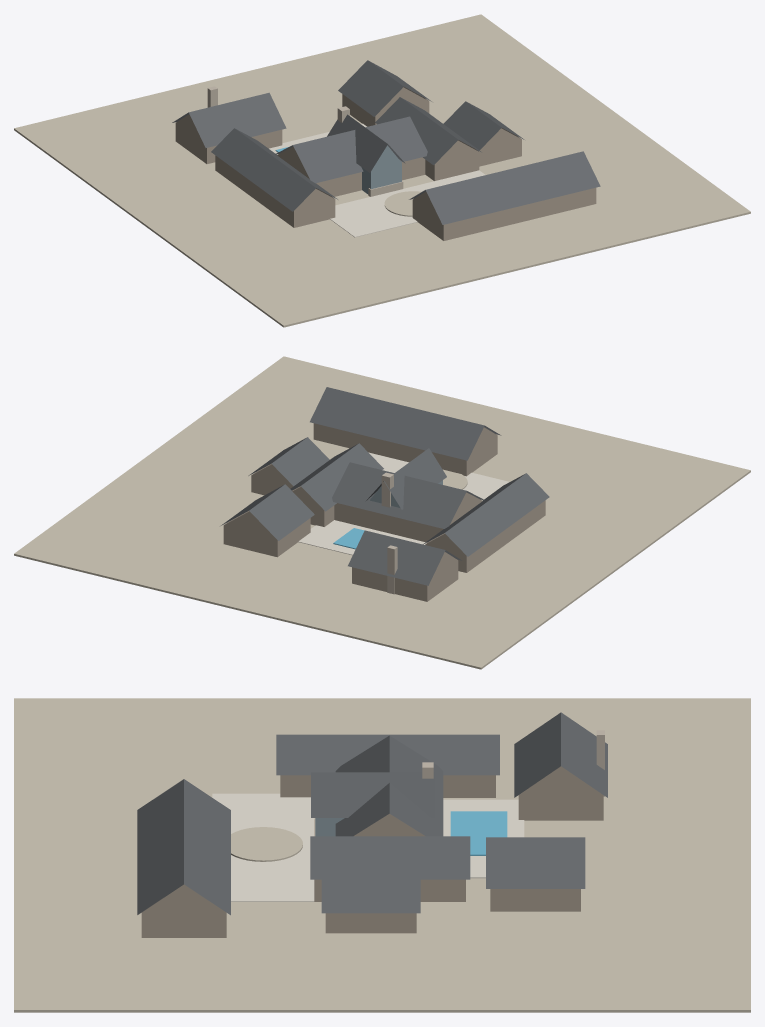
The model's file is PorterEstate_Massing.glb.
The picture shows the model from 3 angles, top to bottom: view 1: azimuth 30°, elevation 25°; view 2: azimuth 150°, elevation 25°; view 3: azimuth 270°, elevation 25°; orthographic projection. The views are drawn at different scales.
Visible parts, largest first — view 1: Ground, GarageWorkshop_roof, CentralBar_roof, WestWing_roof, GarageWorkshop_walls, Cabana_roof, MotorCourt, WestWing_walls, GymOffice_roof, MasterWing_roof, Garage2Car_roof, CentralBar_walls (+7 smaller); view 2: Ground, GarageWorkshop_roof, CentralBar_roof, WestWing_roof, Cabana_roof, GarageWorkshop_walls, CentralBar_walls, GymOffice_roof, GymOffice_walls, MasterWing_roof, Cabana_walls, WestWing_walls (+6 smaller); view 3: Ground, GarageWorkshop_roof, MotorCourt, WestWing_roof, MasterWing_roof, CentralBar_roof, GymOffice_roof, Cabana_roof, Garage2Car_roof, EntryGable_roof, Cabana_walls, GarageWorkshop_walls (+8 smaller).
Boxes of the visible parts, x1=… form: Ground: x1=14, y1=14, x2=750, y2=327; GarageWorkshop_roof: x1=409, y1=151, x2=600, y2=224; CentralBar_roof: x1=275, y1=116, x2=427, y2=183; WestWing_roof: x1=211, y1=128, x2=337, y2=211; GarageWorkshop_walls: x1=412, y1=187, x2=596, y2=240; Cabana_roof: x1=172, y1=92, x2=286, y2=147; MotorCourt: x1=330, y1=170, x2=485, y2=237; WestWing_walls: x1=215, y1=155, x2=335, y2=227; GymOffice_roof: x1=338, y1=60, x2=431, y2=116; MasterWing_roof: x1=375, y1=97, x2=481, y2=165; Garage2Car_roof: x1=443, y1=101, x2=524, y2=151; CentralBar_walls: x1=277, y1=146, x2=425, y2=196; Ground: x1=14, y1=356, x2=750, y2=669; GarageWorkshop_roof: x1=310, y1=387, x2=501, y2=460; CentralBar_roof: x1=332, y1=462, x2=484, y2=528; WestWing_roof: x1=423, y1=473, x2=549, y2=556; Cabana_roof: x1=348, y1=530, x2=461, y2=585; GarageWorkshop_walls: x1=313, y1=423, x2=497, y2=476; CentralBar_walls: x1=334, y1=492, x2=482, y2=542; GymOffice_roof: x1=221, y1=484, x2=314, y2=540; GymOffice_walls: x1=223, y1=511, x2=310, y2=557; MasterWing_roof: x1=290, y1=443, x2=383, y2=511; Cabana_walls: x1=352, y1=552, x2=458, y2=601; WestWing_walls: x1=425, y1=500, x2=545, y2=572; Ground: x1=14, y1=698, x2=750, y2=1012; GarageWorkshop_roof: x1=137, y1=779, x2=230, y2=915; MotorCourt: x1=212, y1=793, x2=314, y2=901; WestWing_roof: x1=276, y1=734, x2=499, y2=775; MasterWing_roof: x1=310, y1=836, x2=470, y2=879; CentralBar_roof: x1=335, y1=735, x2=443, y2=836; GymOffice_roof: x1=486, y1=837, x2=585, y2=888; Cabana_roof: x1=514, y1=712, x2=607, y2=797; Garage2Car_roof: x1=321, y1=871, x2=420, y2=913; EntryGable_roof: x1=311, y1=772, x2=434, y2=817; Cabana_walls: x1=518, y1=766, x2=603, y2=820; GarageWorkshop_walls: x1=141, y1=884, x2=226, y2=937.
Bounding box in the file's own units: 260 × 30 × 260.
